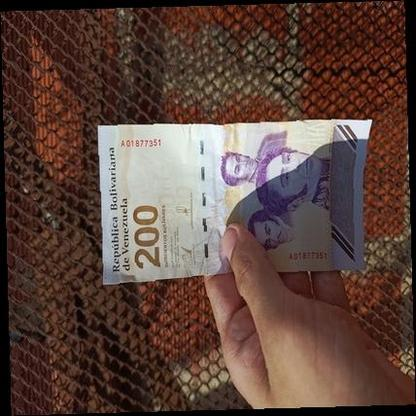vef_front: (97, 118, 372, 286)
